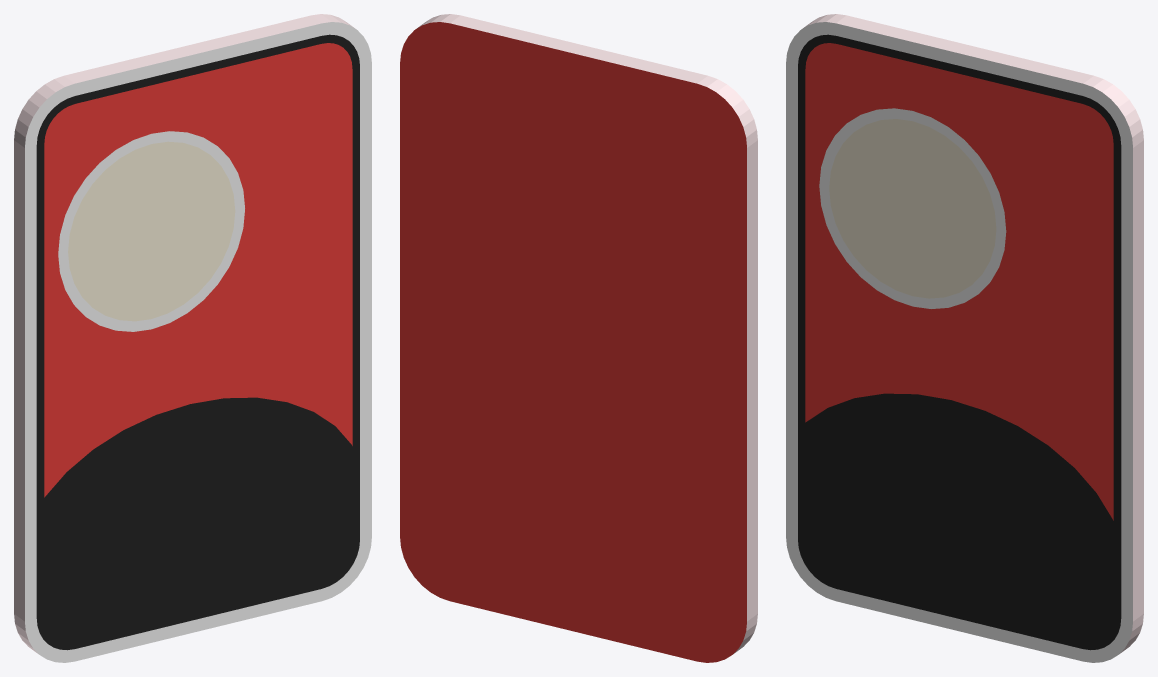
File: flower_playing_cards.gltf
3 renders of one model, left to right at view 1: azimuth 30°, elevation 25°; view 2: azimuth 150°, elevation 25°; view 3: azimuth 330°, elevation 25°, orthographic.
Visible parts, largest first — view 1: Plane.319; view 2: Plane.319; view 3: Plane.319.
Boxes of the visible parts, x1=… form: Plane.319: x1=14, y1=14, x2=371, y2=662; Plane.319: x1=400, y1=14, x2=757, y2=662; Plane.319: x1=786, y1=14, x2=1143, y2=662.
Size of the model in its own units: 1.49 by 2.36 by 0.0805.
Materials: 1 (1 with a texture image).
